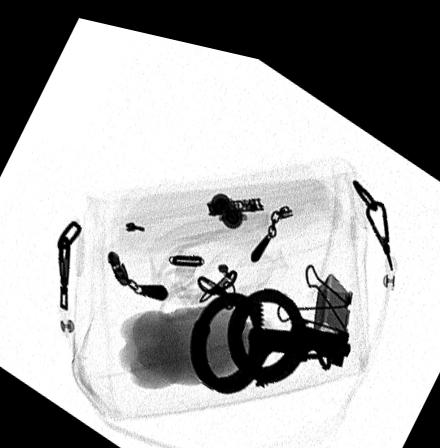HandCuffs: (188, 275, 350, 383)
